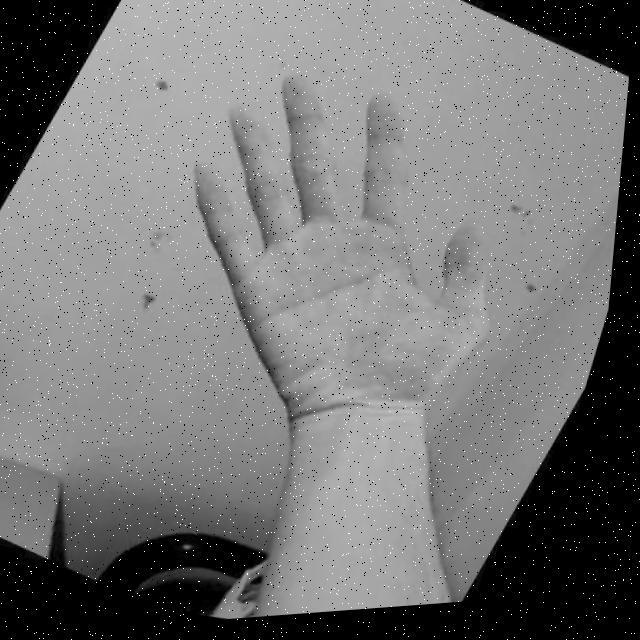no-gloves: (103, 35, 578, 504)
